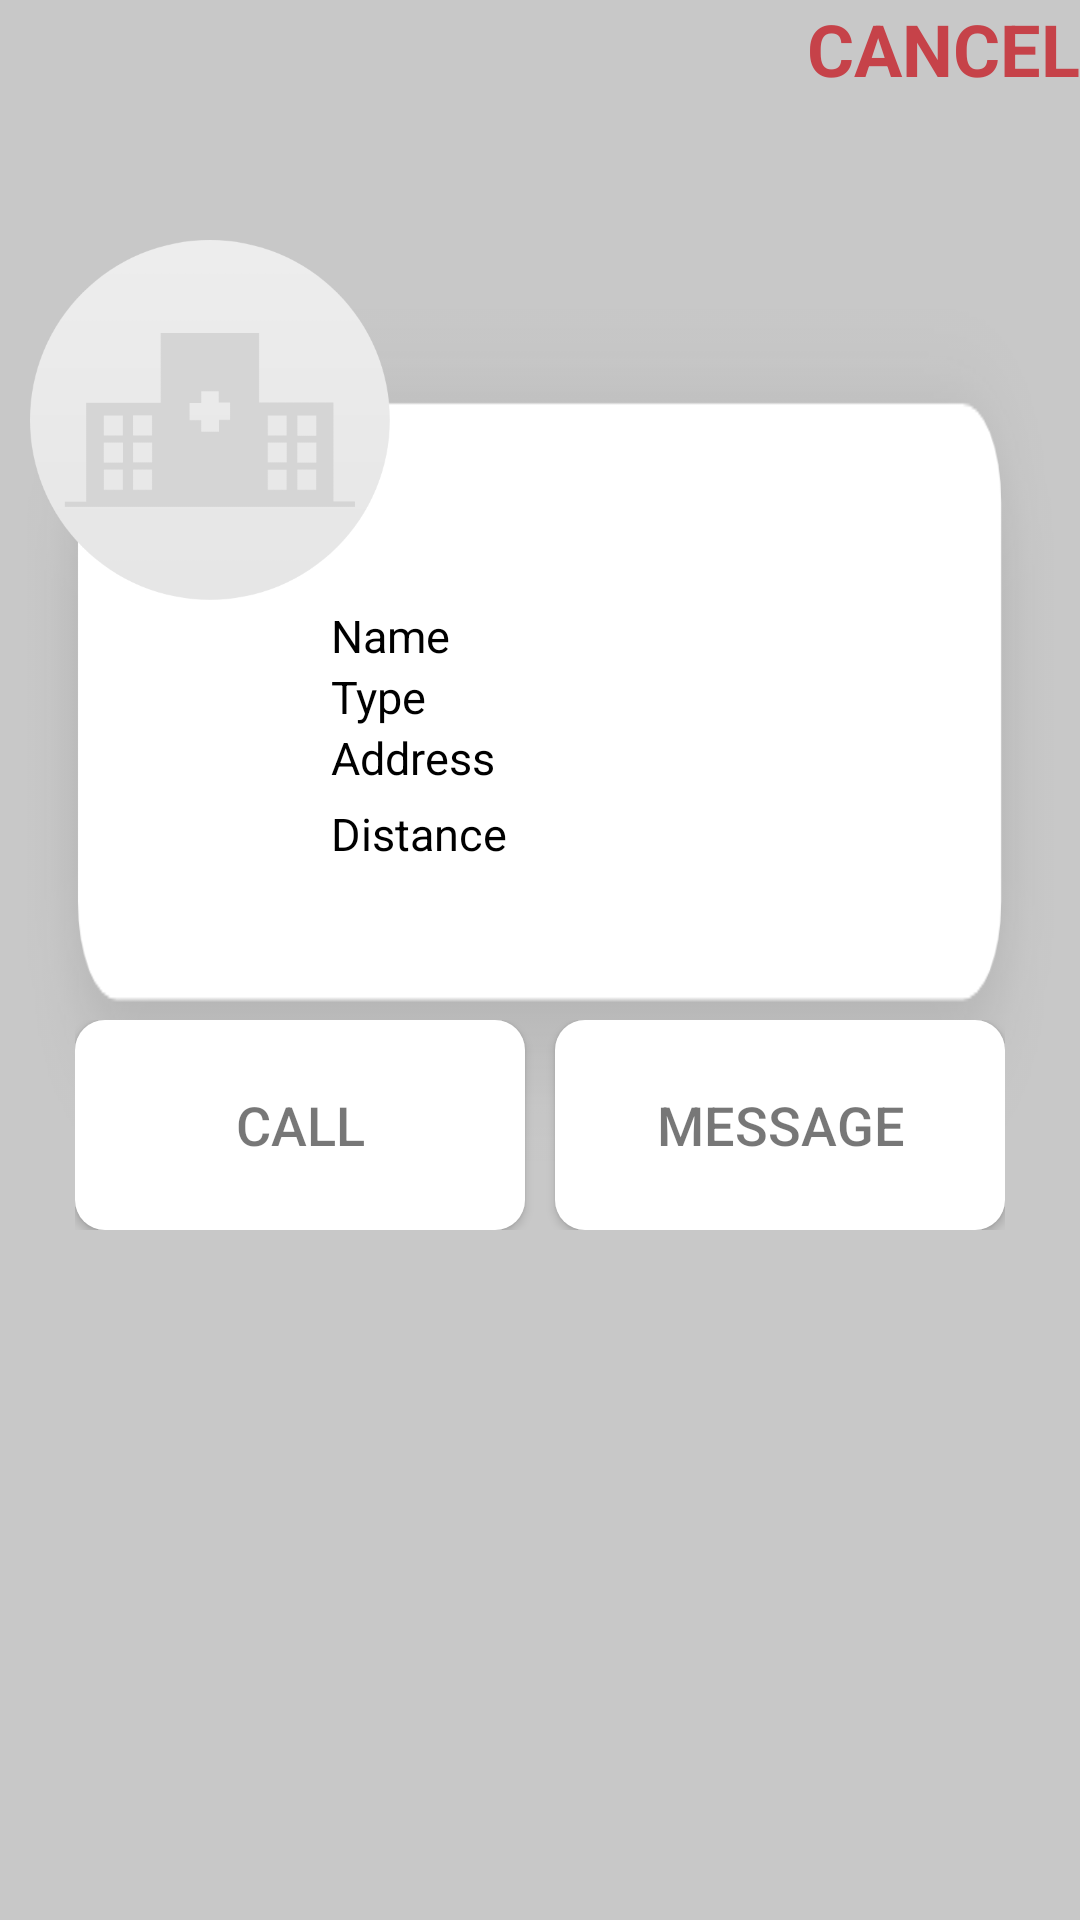

Where icons sit on this 1080px x 1920px app screen, as (x1, y1, x2, y2):
hospital place holder: (30, 240, 390, 600)
